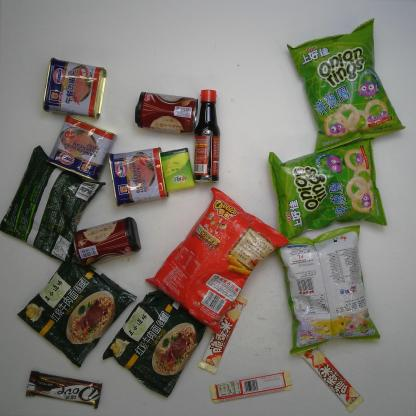Canned Food: (45, 116, 117, 180), (42, 55, 108, 119), (108, 146, 169, 206), (72, 216, 141, 264), (132, 91, 198, 135)
Chocolate: (298, 340, 364, 412), (198, 292, 249, 374), (23, 370, 104, 410), (209, 370, 293, 404)
Instant Noodles: (14, 260, 139, 368), (1, 145, 107, 262), (102, 289, 207, 398)
Puffed Food: (145, 189, 289, 336), (286, 17, 406, 154), (276, 224, 381, 354), (268, 137, 389, 240)
Seasoner: (192, 90, 223, 184)
Tissue: (160, 147, 196, 193)
